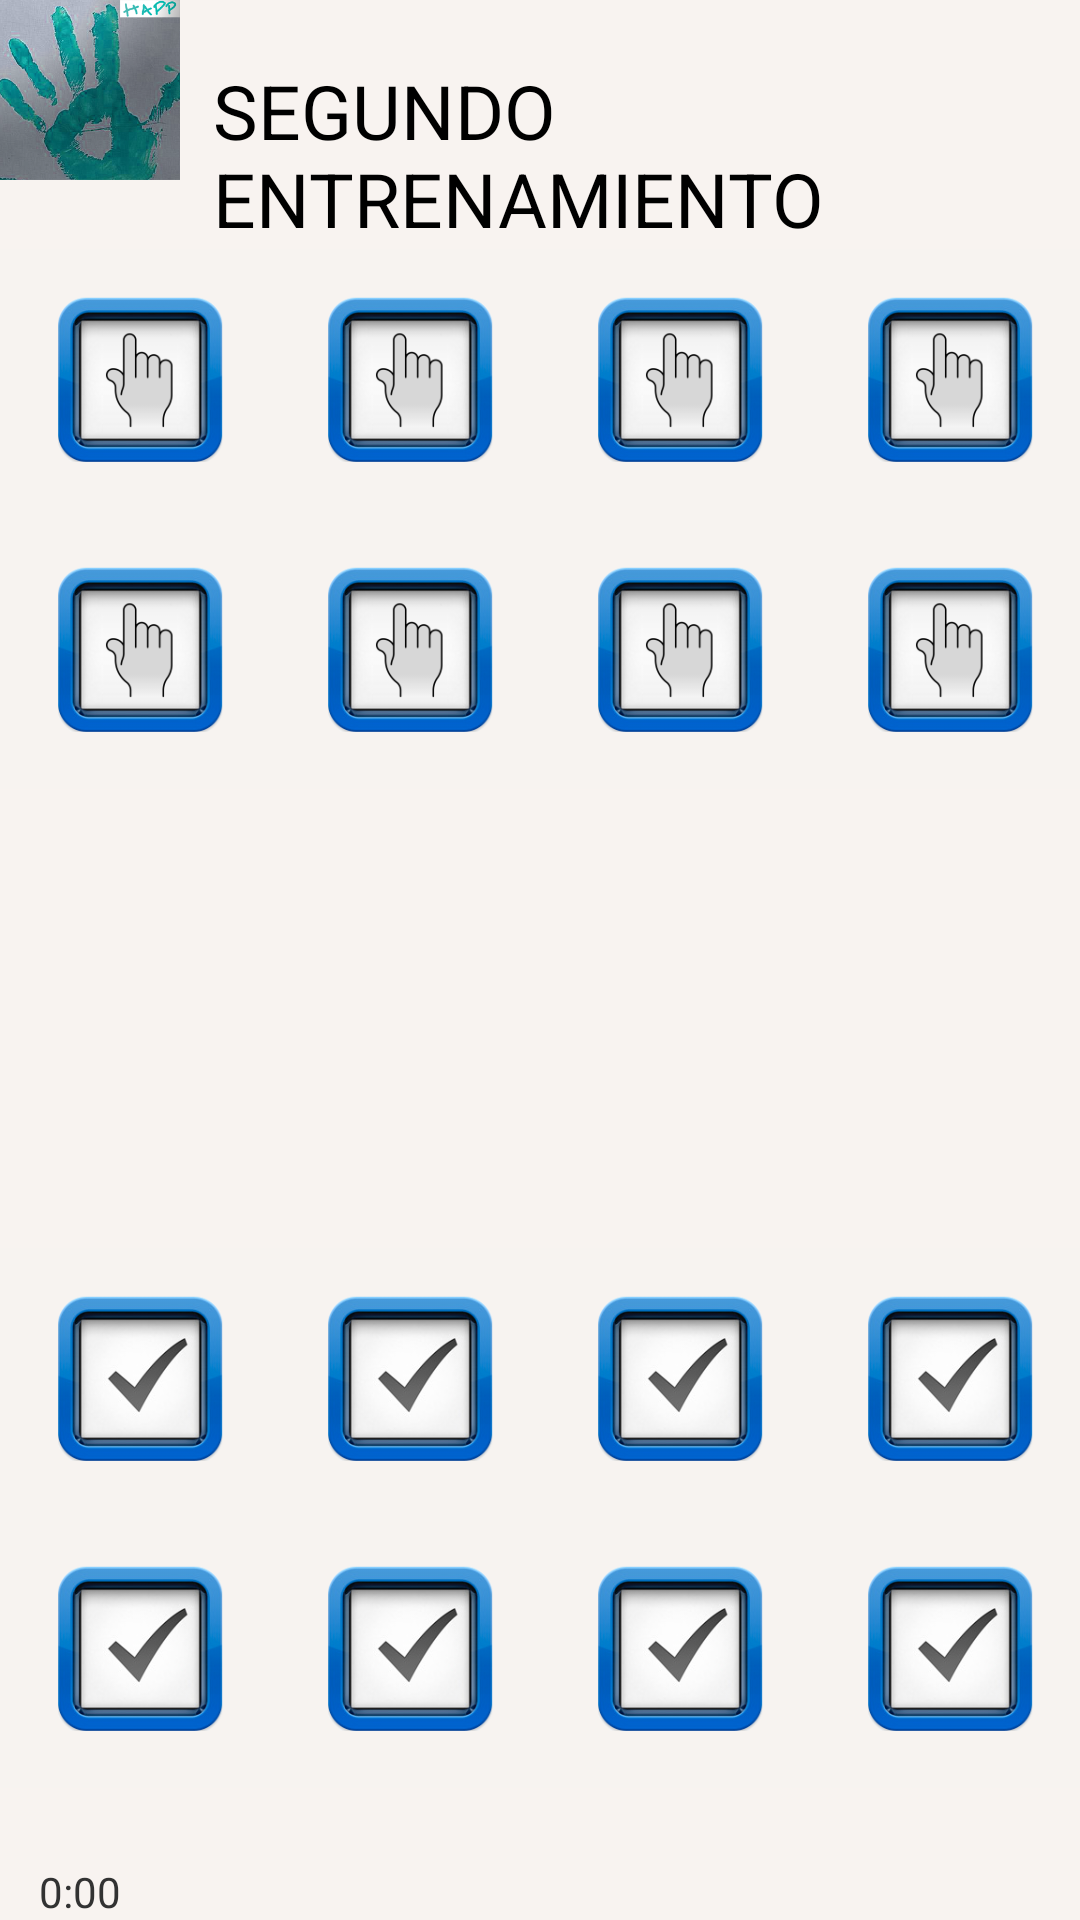

Icons on this 1080 x 1920 Android screen, each with its box as (x1, y1, x2, y2):
def haptic: (58, 297, 223, 462), (328, 297, 493, 462), (598, 297, 763, 462), (868, 297, 1033, 462), (58, 567, 223, 732), (328, 567, 493, 732), (598, 567, 763, 732), (868, 567, 1033, 732)
